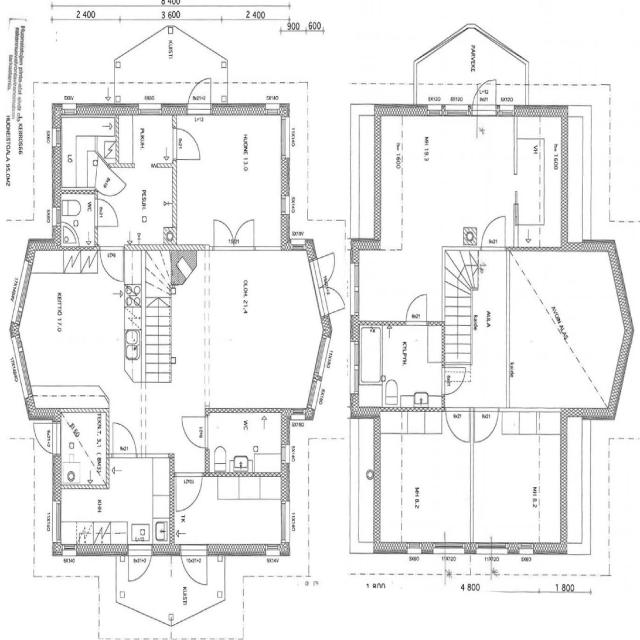door: (208, 216, 259, 248), (172, 467, 204, 513), (177, 410, 211, 452), (109, 416, 141, 459), (173, 124, 205, 166), (469, 404, 502, 444), (478, 211, 510, 252), (444, 402, 474, 444), (180, 543, 208, 587), (474, 78, 499, 125), (402, 290, 432, 328), (186, 78, 215, 116), (98, 246, 126, 283), (128, 542, 152, 583), (93, 196, 121, 229), (33, 418, 57, 456), (442, 363, 468, 397), (109, 170, 128, 196)
window: (276, 108, 292, 158), (433, 104, 472, 120), (137, 102, 166, 116)
zone: (373, 113, 517, 260), (506, 244, 626, 415), (202, 245, 323, 413), (16, 256, 130, 416), (174, 111, 288, 248), (373, 407, 472, 552), (470, 408, 566, 552), (56, 460, 178, 549), (512, 108, 566, 252), (358, 323, 446, 409), (206, 405, 286, 486), (115, 113, 177, 211), (55, 113, 118, 189), (126, 148, 175, 243), (55, 406, 109, 489), (351, 323, 384, 408), (60, 188, 96, 248)
